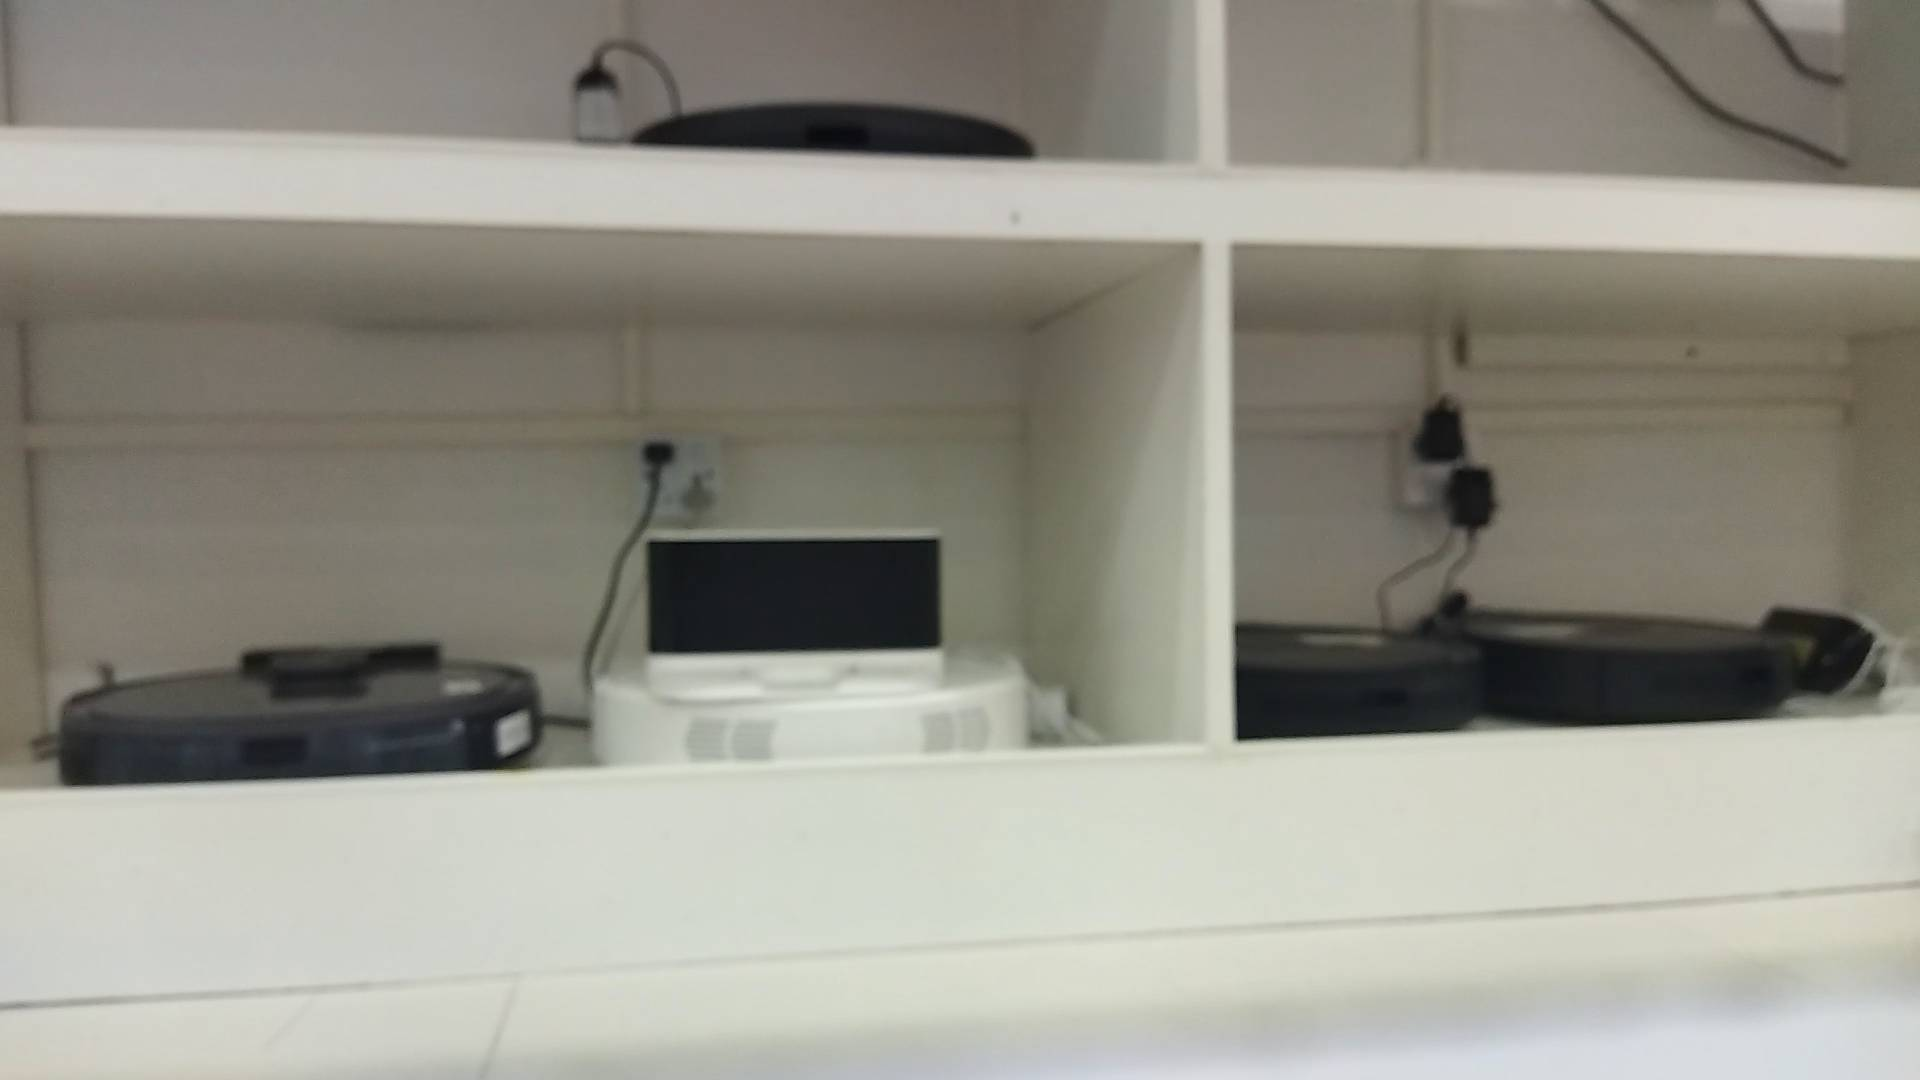recharge seat: (644, 526, 947, 702)
